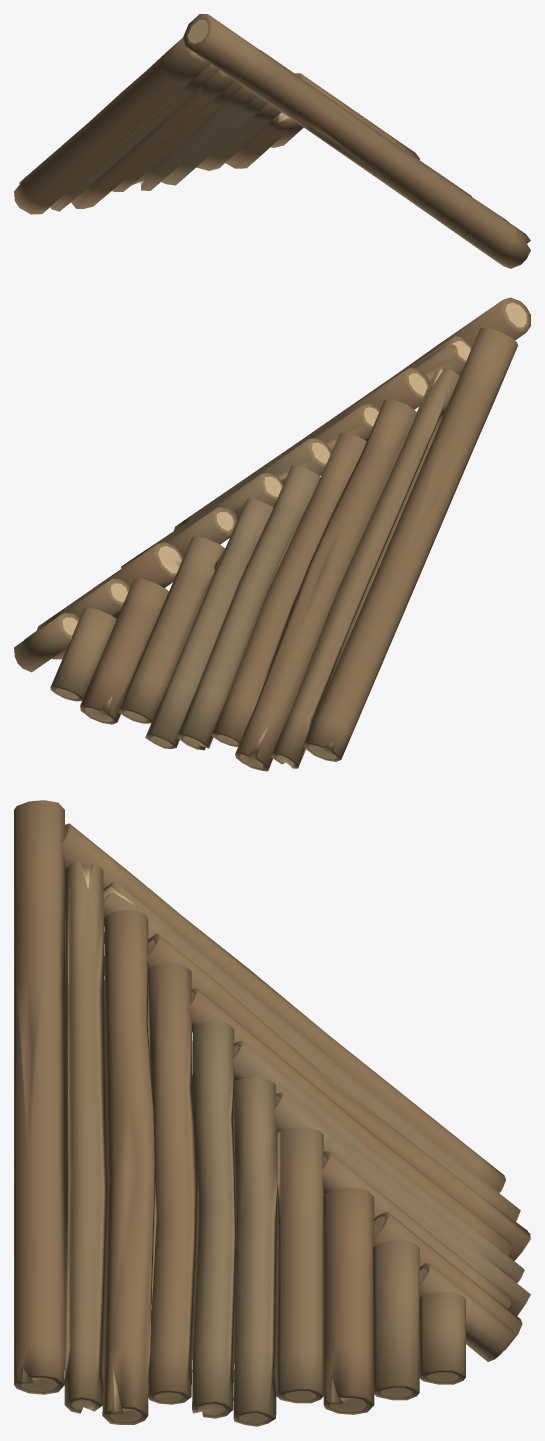
File: rpgpp_ag_roof_01_6x3x3_corner_02.fbx
3 renders of one model, top to bottom at view 1: azimuth 30°, elevation 25°; view 2: azimuth 150°, elevation 25°; view 3: azimuth 270°, elevation 25°, orthographic. The views are drawn at different scales.
Visible parts, largest first — view 1: rpgpp_ag_roof_01_6x3x3_corner_02; view 2: rpgpp_ag_roof_01_6x3x3_corner_02; view 3: rpgpp_ag_roof_01_6x3x3_corner_02.
Part boxes in pixels (x1,y1,x2,y2): rpgpp_ag_roof_01_6x3x3_corner_02: (14,14,530,268); rpgpp_ag_roof_01_6x3x3_corner_02: (14,297,530,771); rpgpp_ag_roof_01_6x3x3_corner_02: (14,800,530,1426).
Size of the model in its own units: 4.37 by 3.96 by 4.31.
